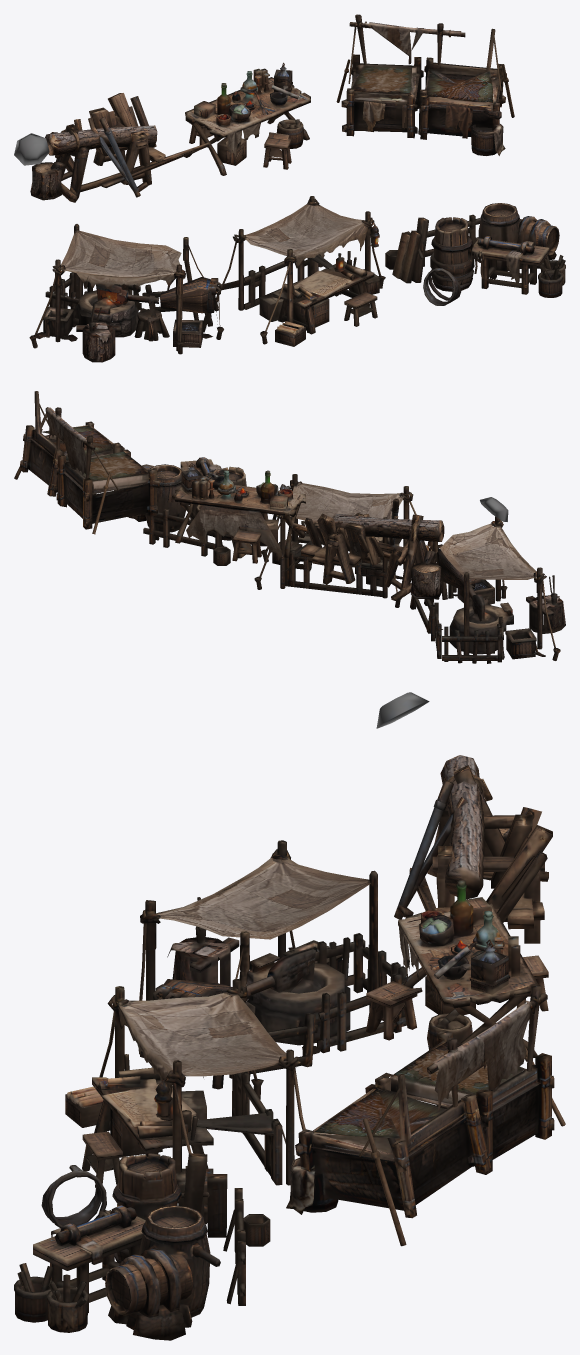
File: asset_24_work_stations_set.glb
3 renders of one model, top to bottom at view 1: azimuth 30°, elevation 25°; view 2: azimuth 150°, elevation 25°; view 3: azimuth 270°, elevation 25°, orthographic. The views are drawn at different scales.
Visible parts, largest first — view 1: tripo_27f76d5a_a804_4824_a87e_8f0102ccda97; view 2: tripo_27f76d5a_a804_4824_a87e_8f0102ccda97; view 3: tripo_27f76d5a_a804_4824_a87e_8f0102ccda97.
Boxes of the visible parts, x1,y1,x2,y2 form: tripo_27f76d5a_a804_4824_a87e_8f0102ccda97: [14, 14, 565, 362]; tripo_27f76d5a_a804_4824_a87e_8f0102ccda97: [14, 391, 565, 663]; tripo_27f76d5a_a804_4824_a87e_8f0102ccda97: [14, 692, 565, 1340].
Bounding box in the file's own units: 0.9995 × 0.3364 × 0.5562.
1 material, 1 textured.
